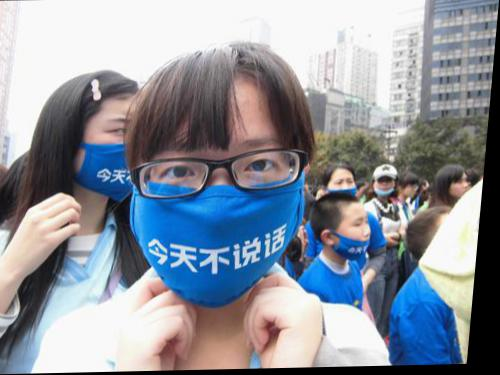NONE: (86, 112, 158, 204), (455, 178, 476, 202), (408, 185, 424, 201)
OK: (131, 128, 301, 289)
WRONG: (332, 215, 381, 261), (331, 176, 362, 207), (377, 179, 399, 198)
